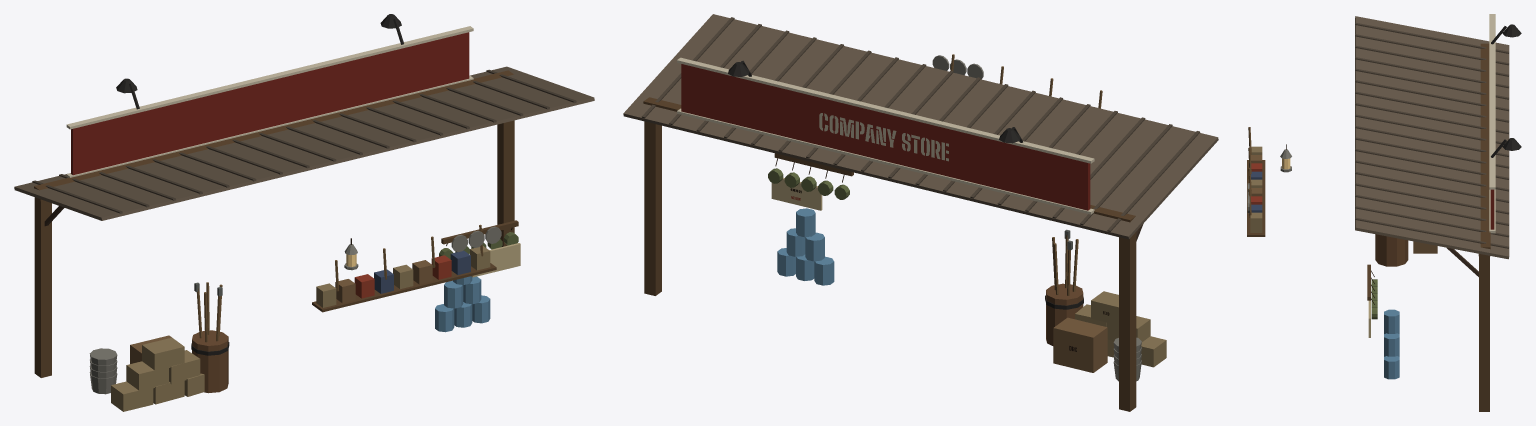
The model's file is StoreFront.glb.
3 renders of one model, left to right at view 1: azimuth 30°, elevation 25°; view 2: azimuth 150°, elevation 25°; view 3: azimuth 270°, elevation 25°, orthographic. The views are drawn at different scales.
Visible parts, largest first — view 1: StoreFront; view 2: StoreFront; view 3: StoreFront.
Boxes of the visible parts, x1,y1,x2,y2 form: StoreFront: (14, 14, 594, 411); StoreFront: (623, 14, 1218, 411); StoreFront: (1247, 14, 1521, 411).
Size of the model in its own units: 8.2 by 4.12 by 4.5.
